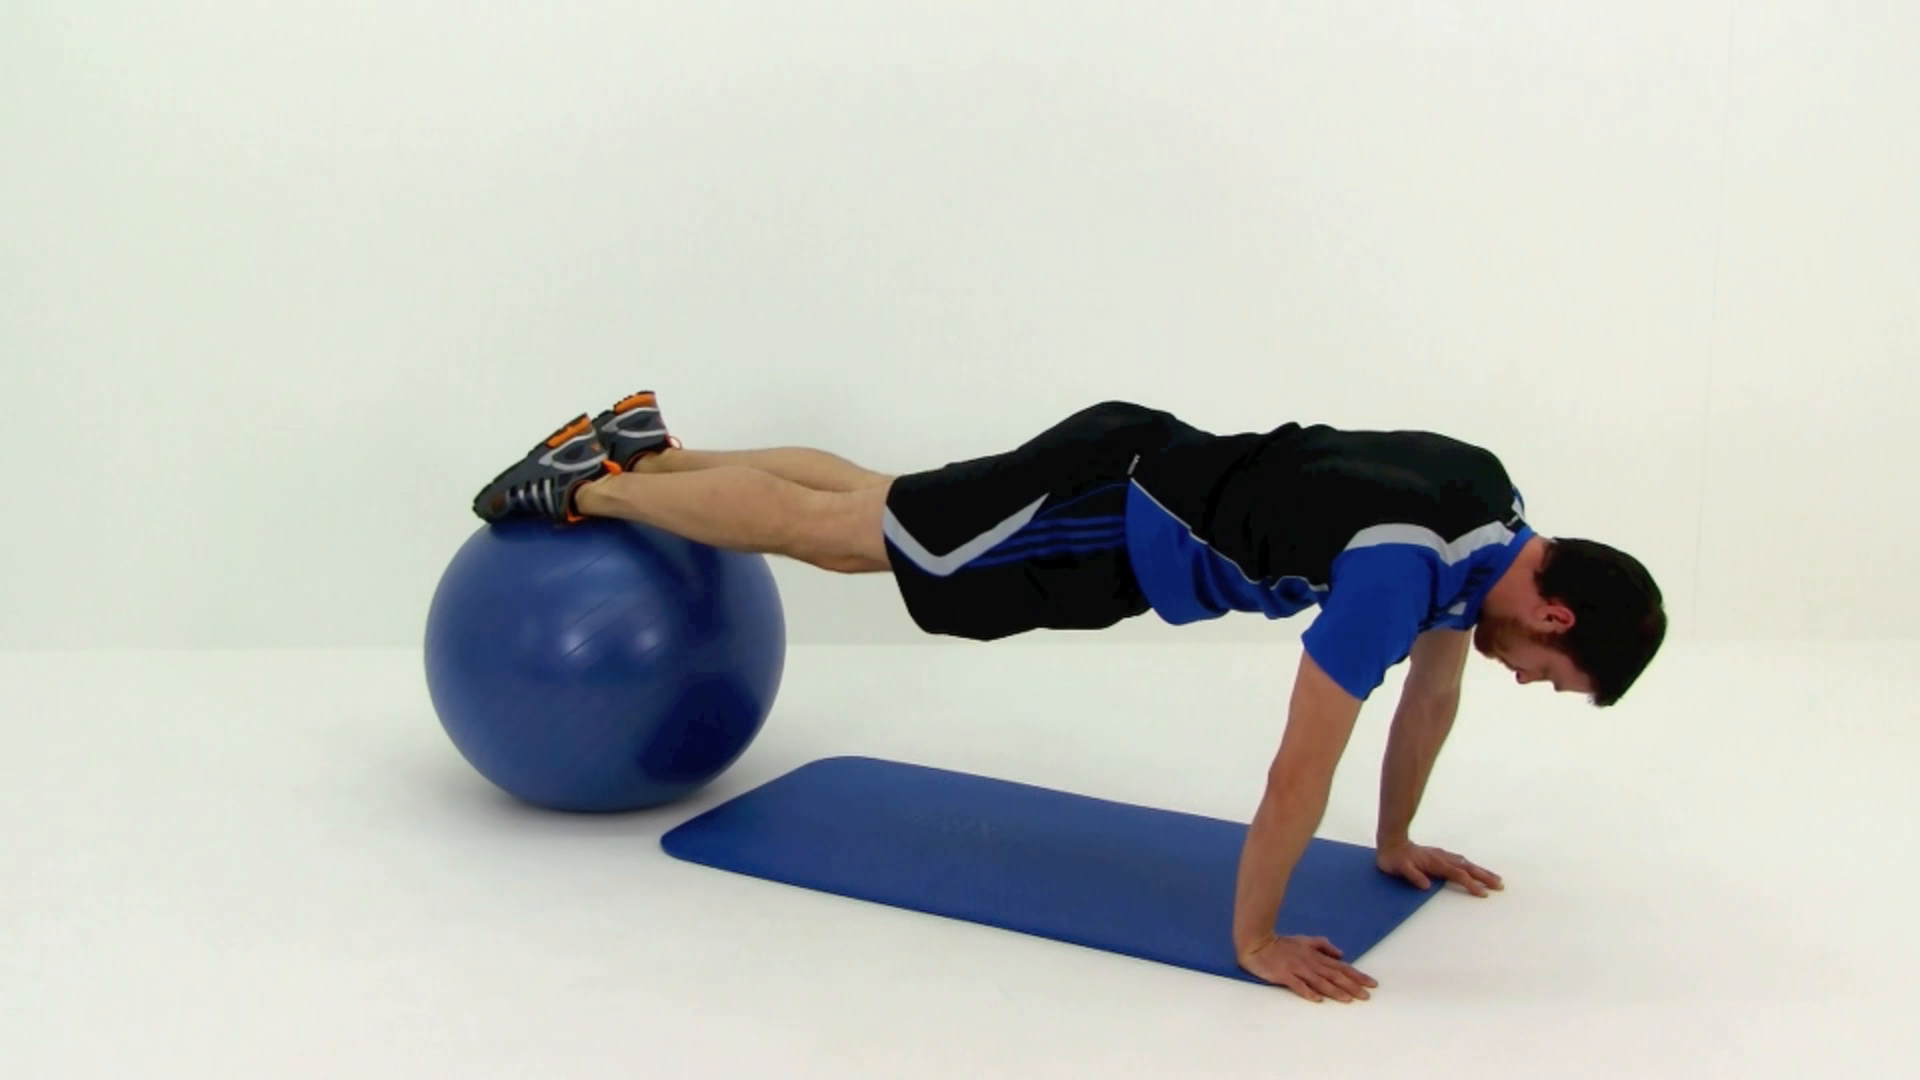yogaball: (406, 487, 800, 841)
